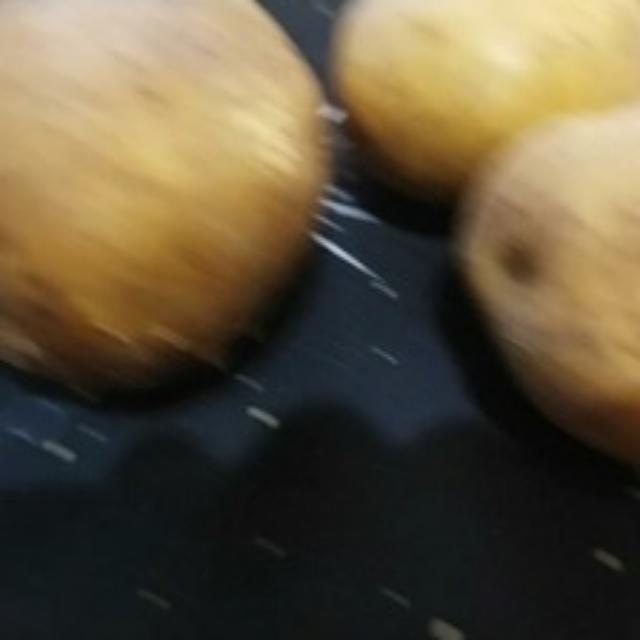Damaged potato: (1, 5, 342, 423), (442, 100, 638, 526)
Potato: (316, 0, 636, 206)
